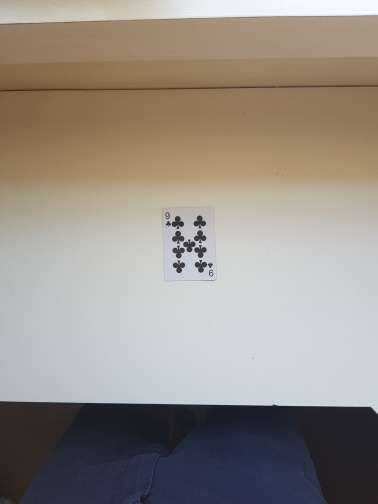nine: (160, 207, 217, 282)
